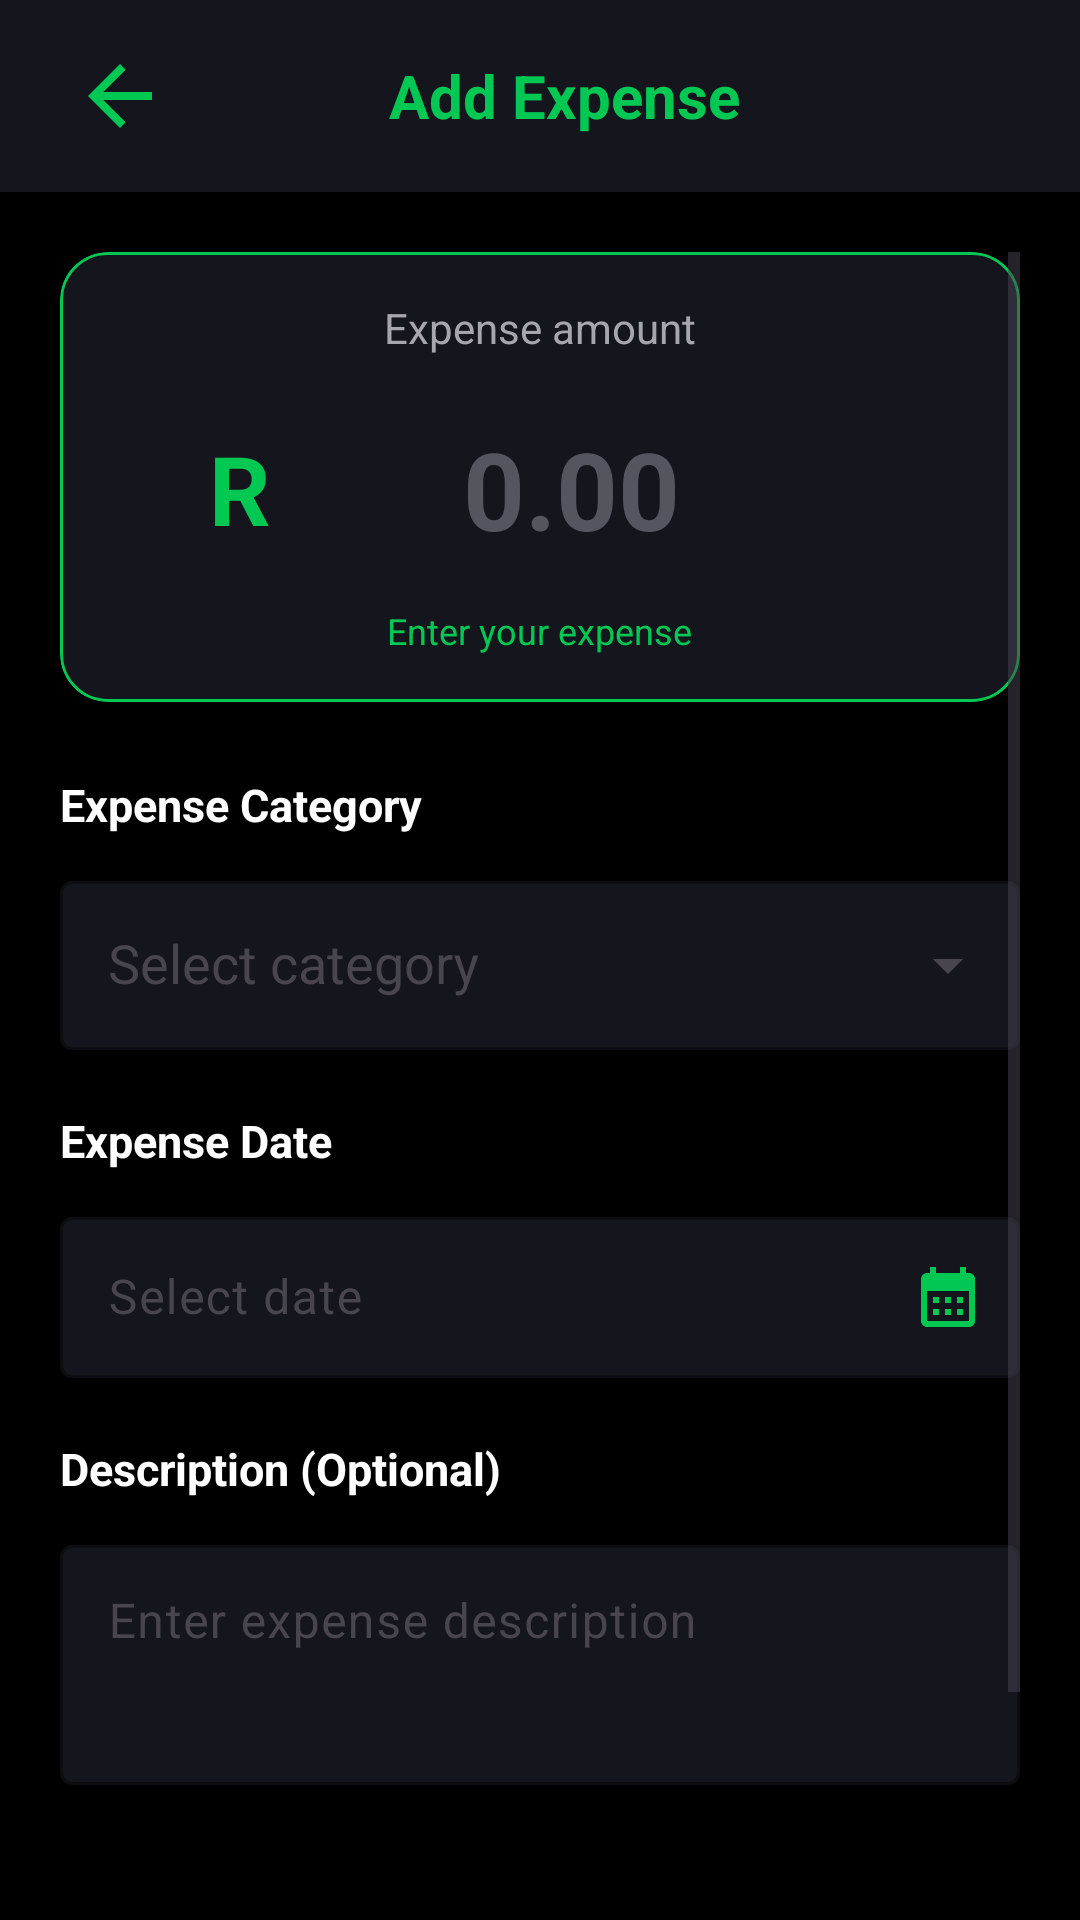

Icons on this 1080px×1920px Android screen, each with its box as {"left": x1, "top": y1, "right": x2, "bottom": y2}:
Back: {"left": 88, "top": 64, "right": 152, "bottom": 128}
